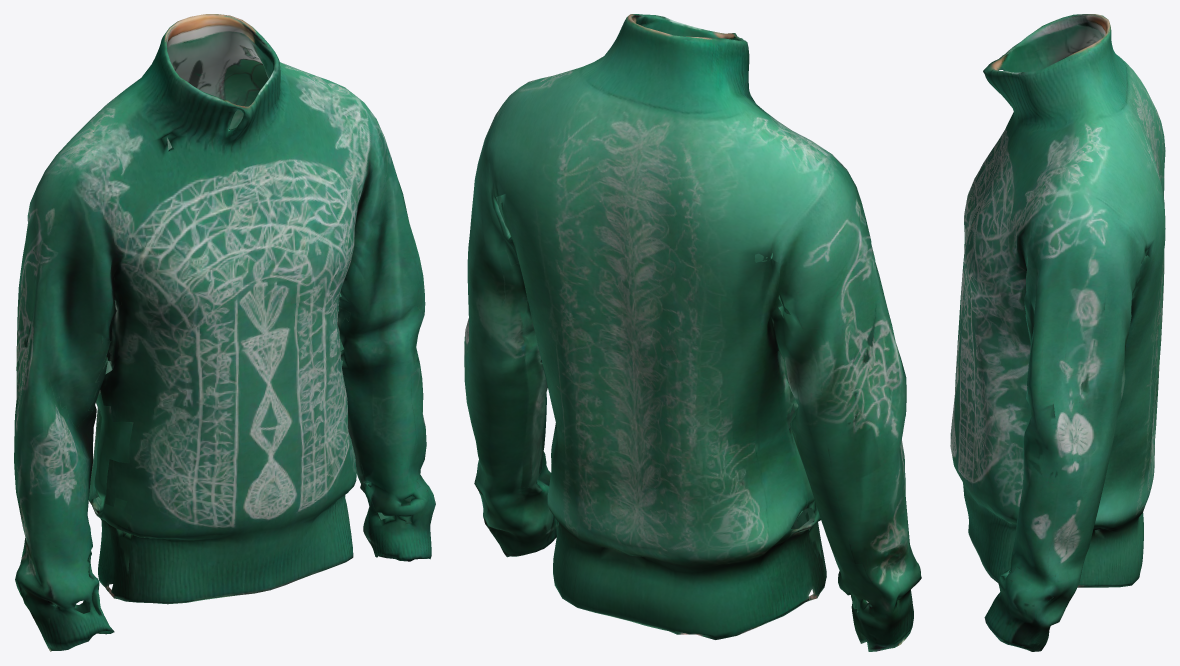
File: sueter verde.glb
3 renders of one model, left to right at view 1: azimuth 30°, elevation 25°; view 2: azimuth 150°, elevation 25°; view 3: azimuth 270°, elevation 25°, orthographic. The views are drawn at different scales.
Size of the model in its own units: 1.5 by 2 by 0.7132.
1 material, 1 textured.
